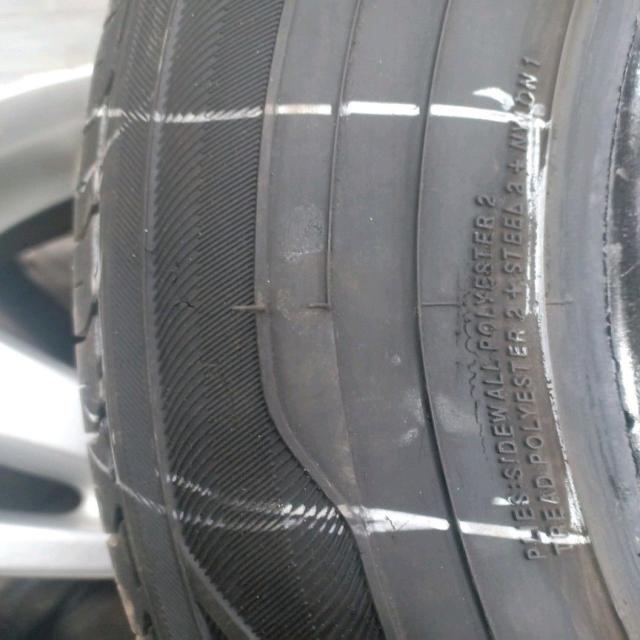Bulge: (211, 479, 420, 640)
